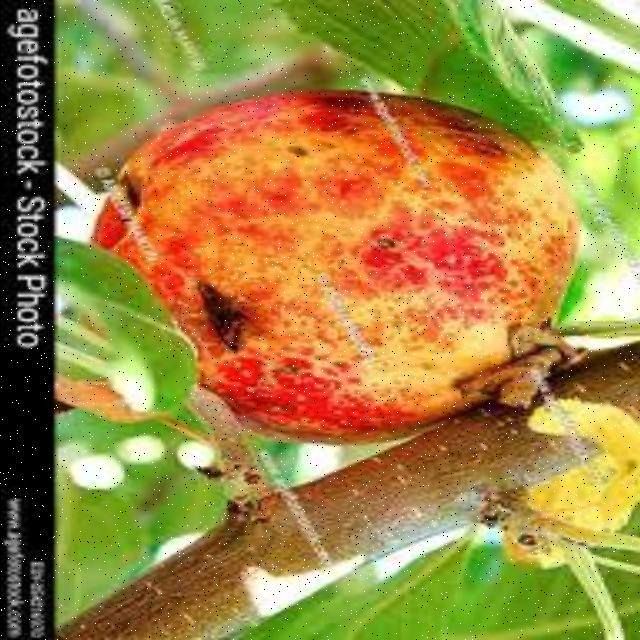SCAB: (155, 88, 586, 508)
